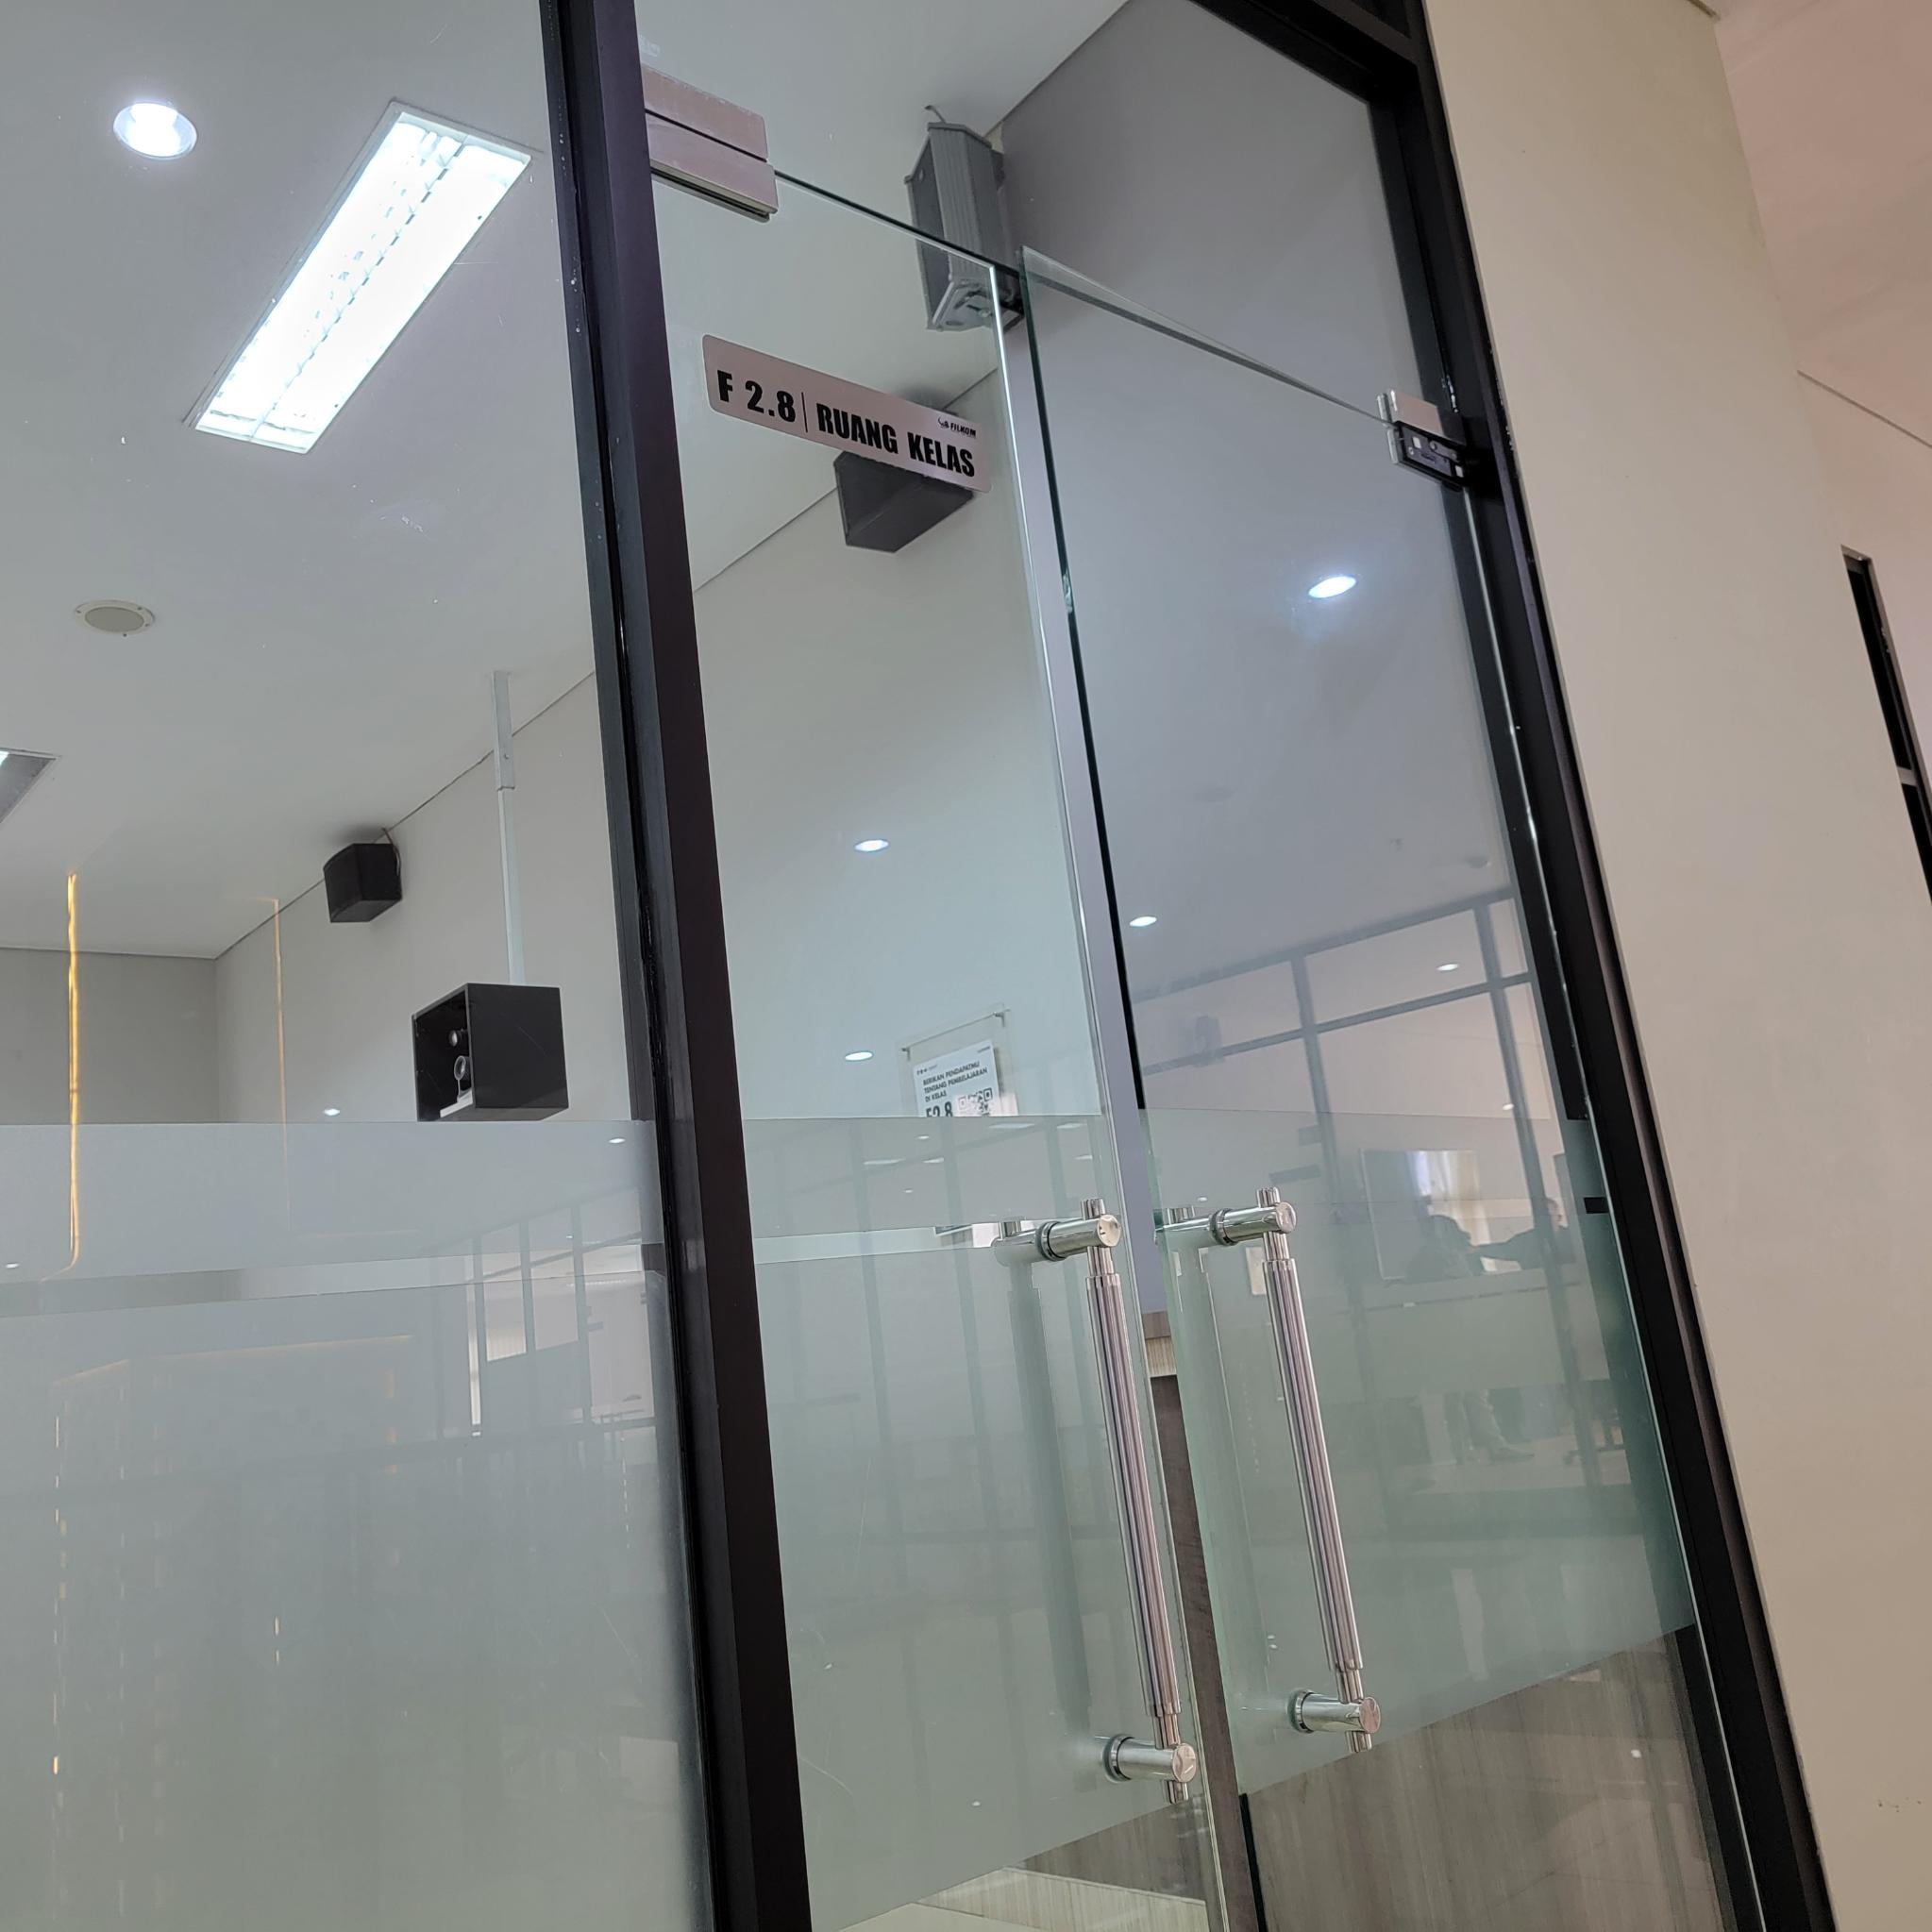plate: (704, 329, 993, 494)
